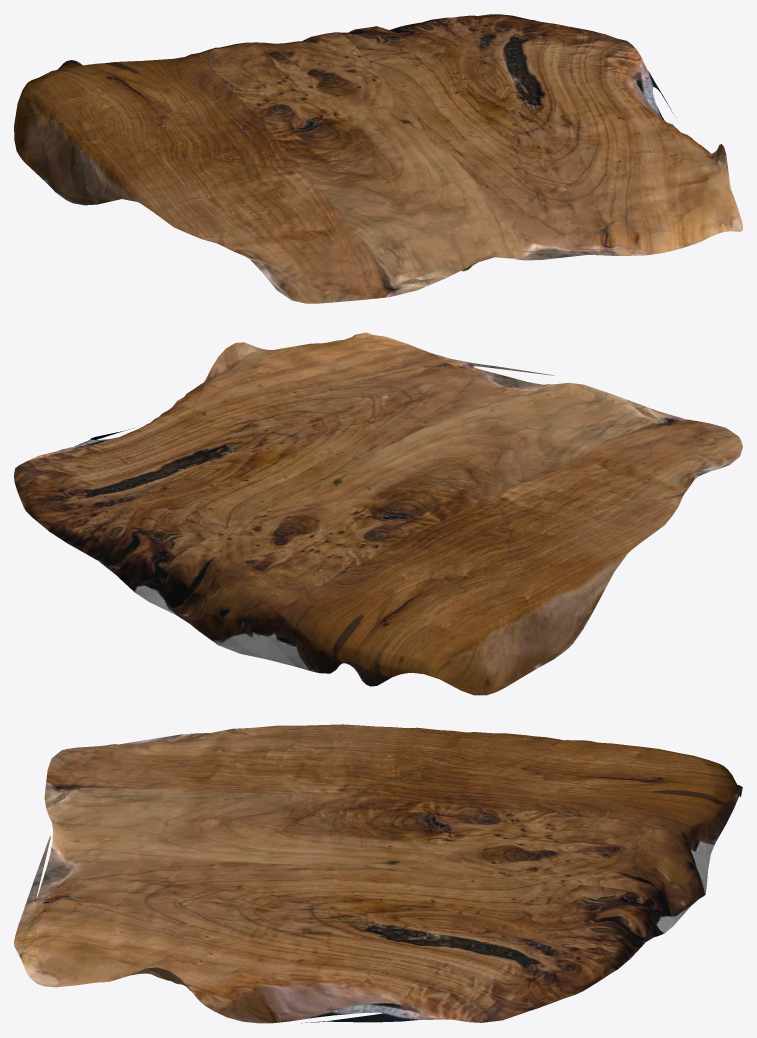
3 views of the same model, one above another, from view 1: azimuth 30°, elevation 25°; view 2: azimuth 150°, elevation 25°; view 3: azimuth 270°, elevation 25° (orthographic). The views are drawn at different scales.
Visible parts, largest first — view 1: MeshTransform; view 2: MeshTransform; view 3: MeshTransform.
Part boxes in pixels (box(x1,y1,x2,y2)): MeshTransform: box(14, 14, 742, 303); MeshTransform: box(14, 332, 742, 695); MeshTransform: box(14, 724, 742, 1023).
Size of the model in its own units: 9.37 by 0.9493 by 10.04.
1 material, 1 textured.
